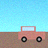vehicle: (18, 26, 45, 42)
